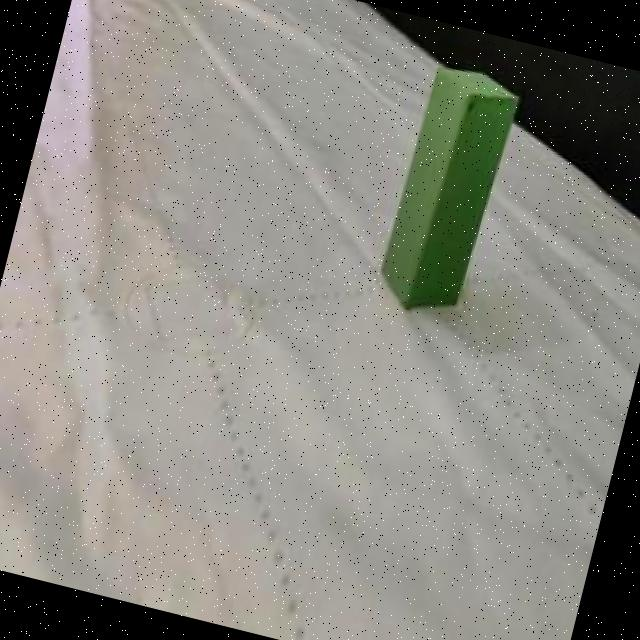greenbox: (370, 60, 524, 323)
